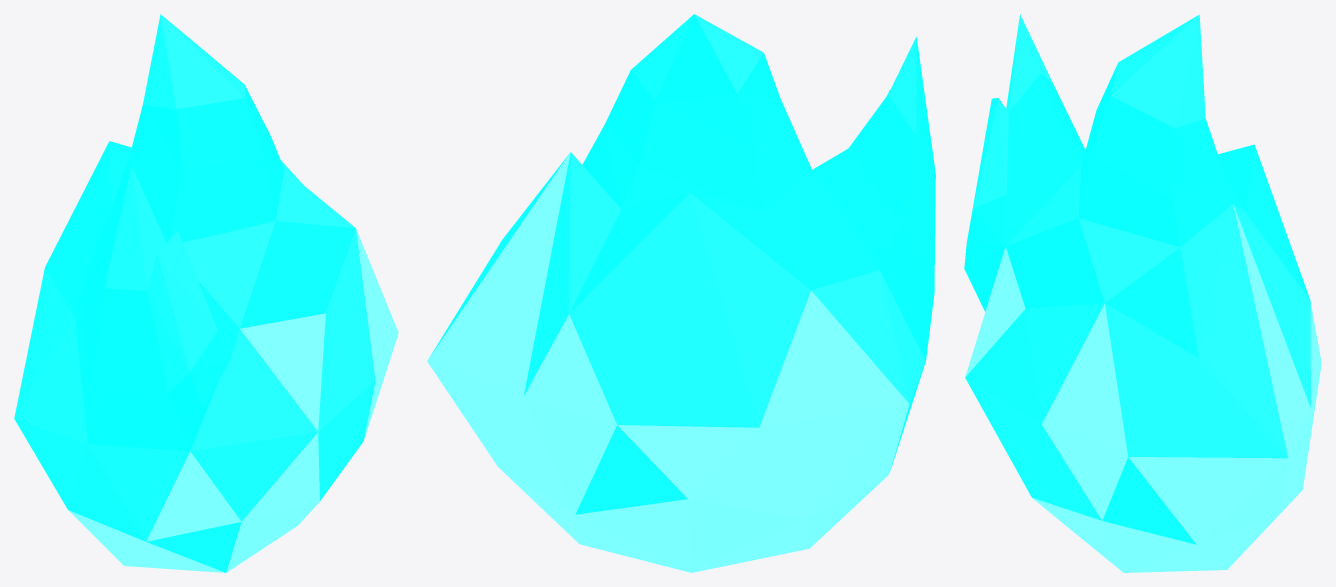
Rendered from llama.fbx.
3 renders of one model, left to right at view 1: azimuth 30°, elevation 25°; view 2: azimuth 150°, elevation 25°; view 3: azimuth 270°, elevation 25°, orthographic. The views are drawn at different scales.
Parts seen in each view (by area): view 1: Fire; view 2: Fire; view 3: Fire.
Boxes of the visible parts, box(x1,y1,x2,y2) form: Fire: box(14, 14, 398, 572); Fire: box(427, 14, 935, 572); Fire: box(964, 14, 1321, 572).
Size of the model in its own units: 61.99 by 83.95 by 50.45.
